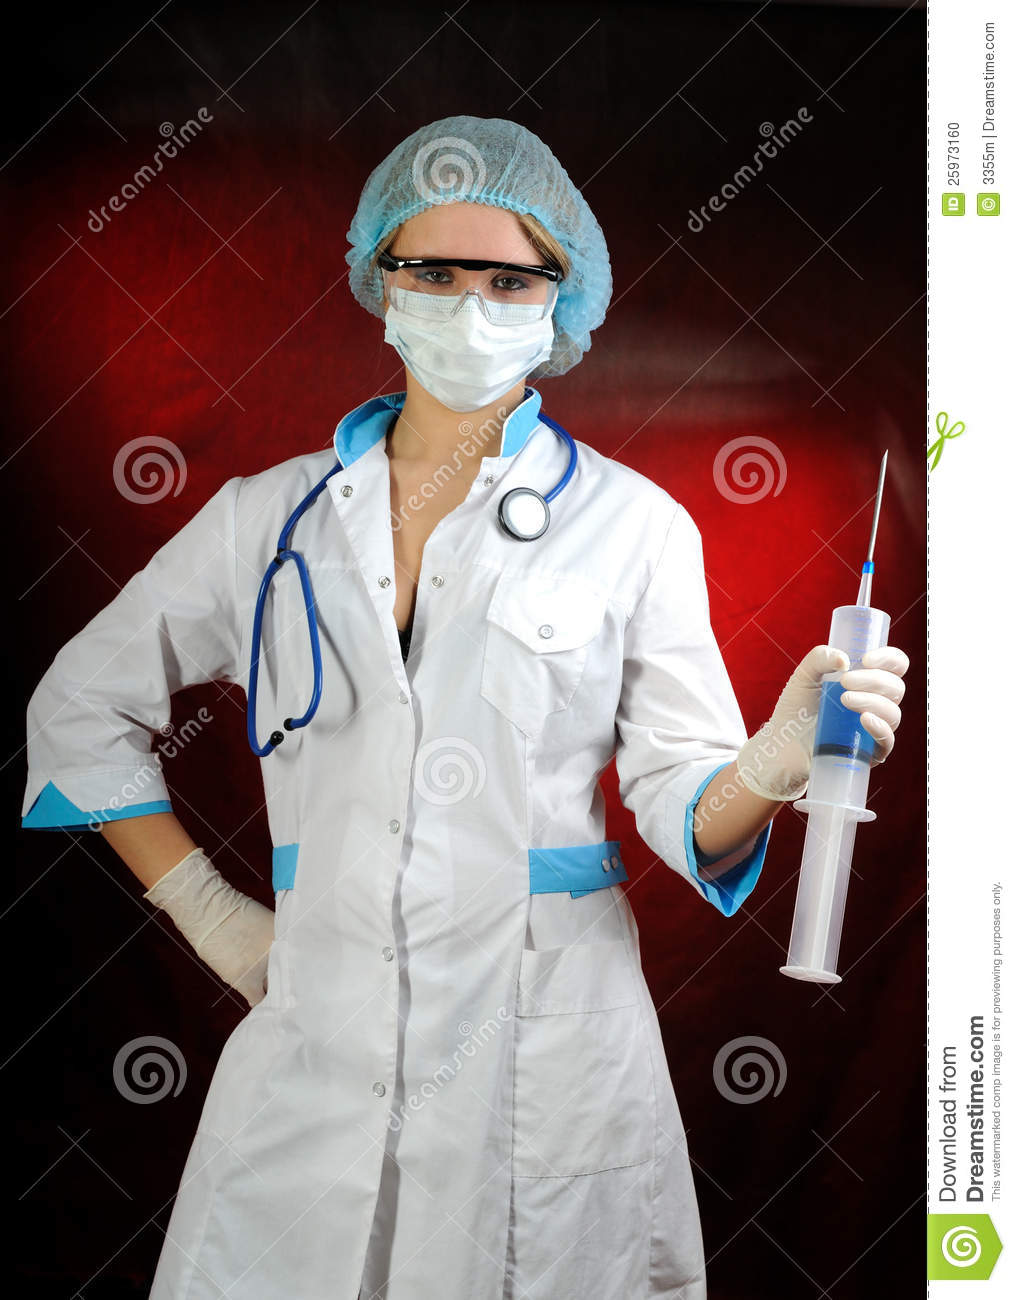mask: (382, 299, 550, 393)
